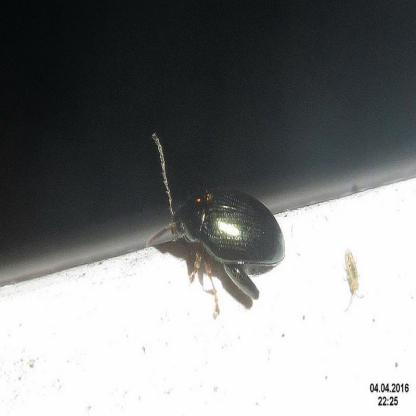beetle: (155, 135, 282, 304)
